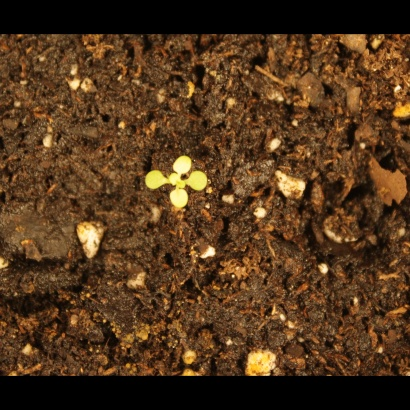leaf: (143, 167, 168, 193), (170, 149, 194, 176), (187, 170, 210, 193), (168, 186, 191, 209)
